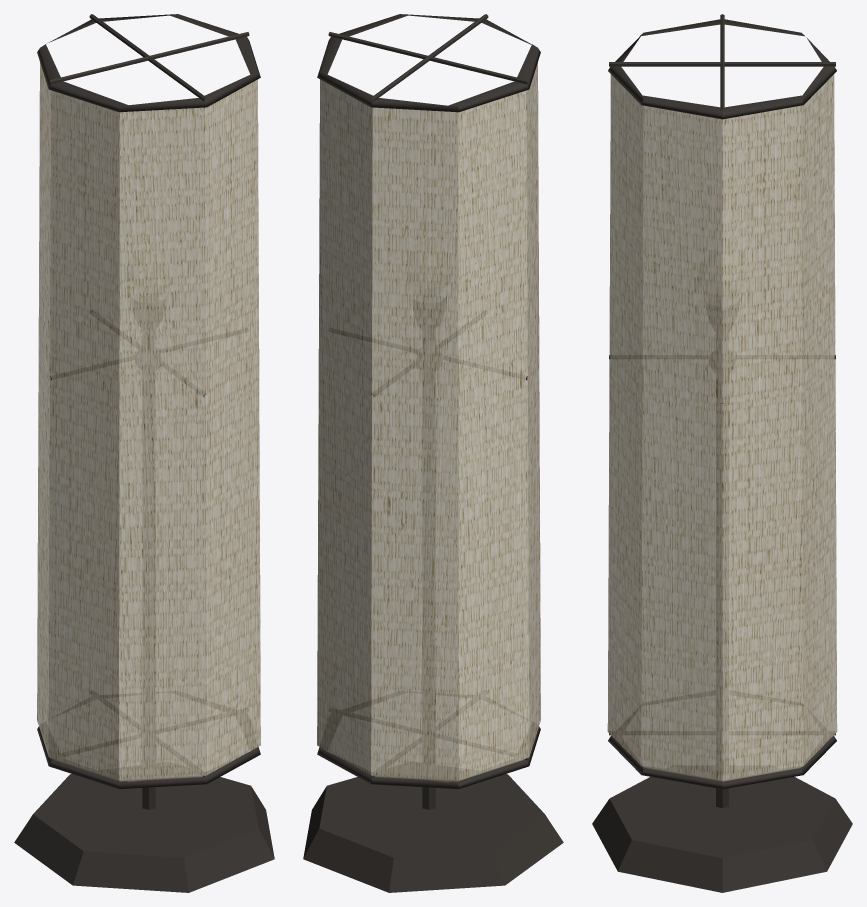
File: Lamp1.glb
3 renders of one model, left to right at view 1: azimuth 30°, elevation 25°; view 2: azimuth 150°, elevation 25°; view 3: azimuth 270°, elevation 25°, orthographic.
Visible parts, largest first — view 1: polySurface13; view 2: polySurface13; view 3: polySurface13.
Part boxes in pixels (x1,y1,x2,y2): polySurface13: (14,14,274,892); polySurface13: (303,14,563,892); polySurface13: (592,14,852,892).
Size of the model in its own units: 0.8414 by 2.83 by 0.8631.
Materials: 3 (1 with a texture image).
